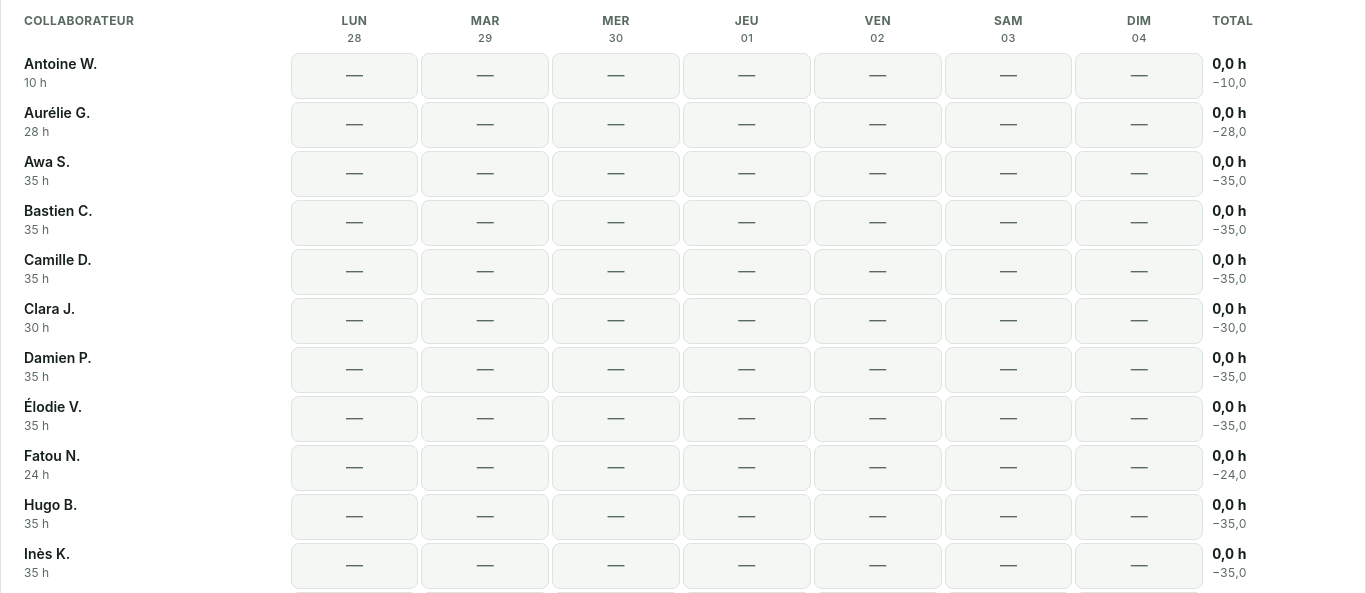
it: feuilles de route dans l’écran Planning › donne à chacun ses tâches, avec l’heure et le rayon
(page scrolled)
Click the button named "Camille D., lundi" at coordinates (354, 272), box [291,249,418,295]
(page scrolled)
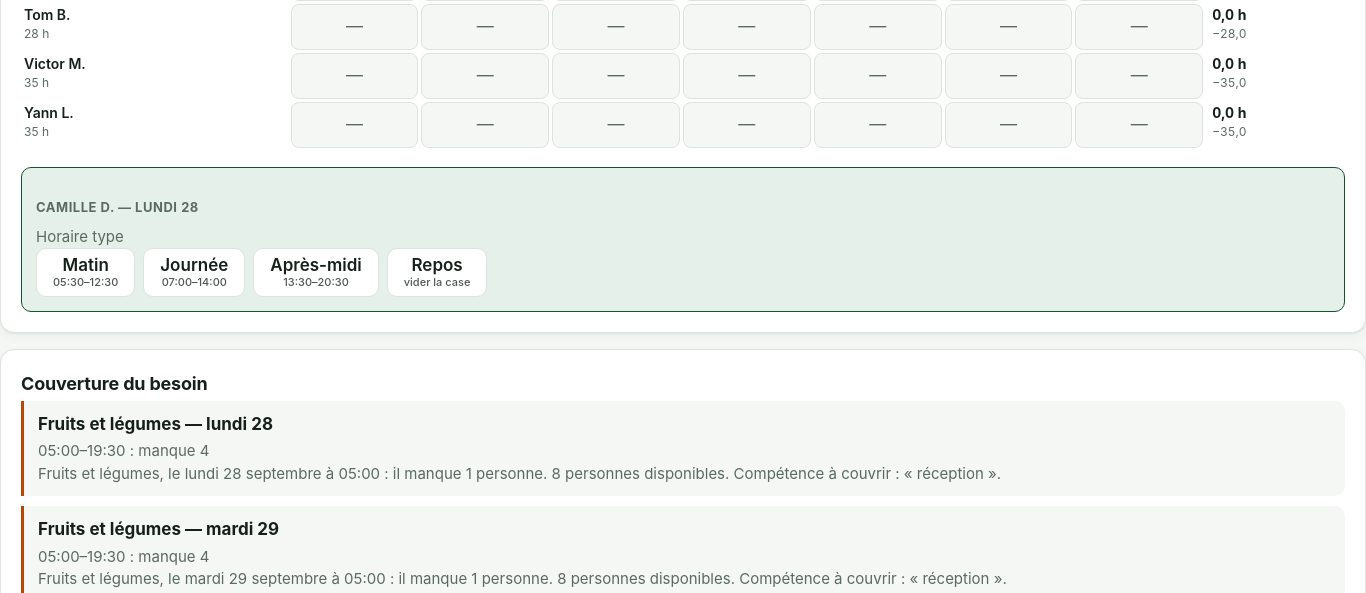
Click the button "Matin 05:30–12:30" at coordinates (86, 272), box [36,248,135,297]
(page scrolled)
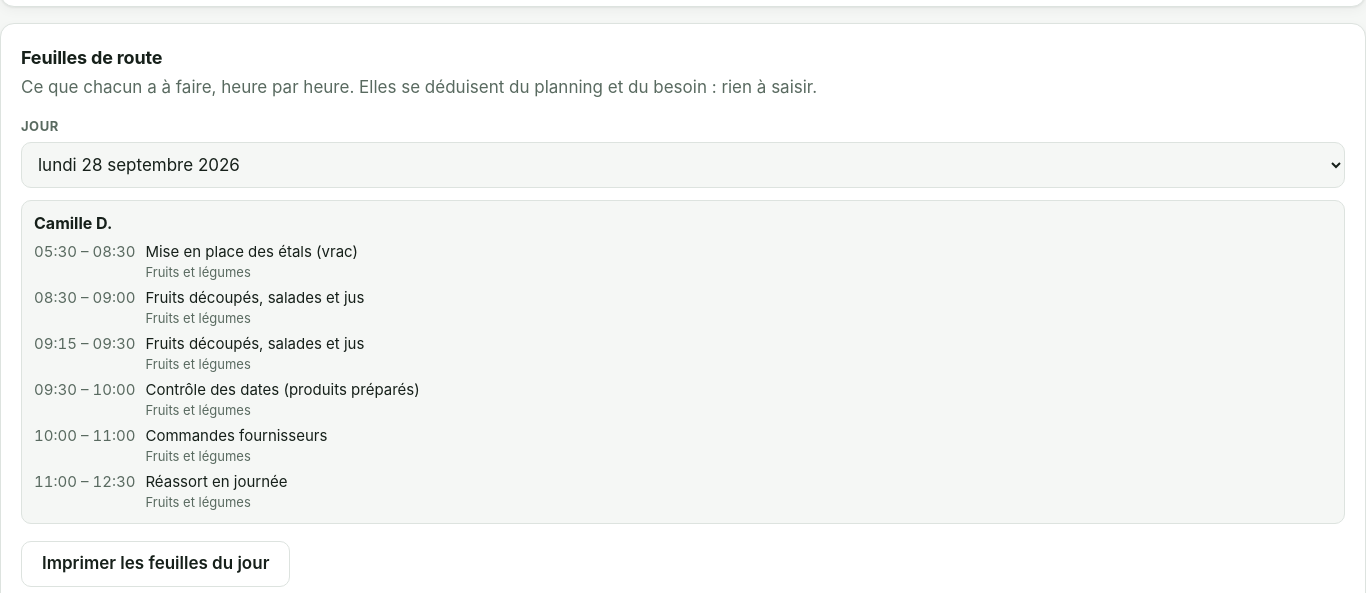
Expected: the heading "Camille D." is shown, [34,213,112,233]
Expected: the text "05:30 – 08:30" is shown, [34,241,135,263]
Expected: the text "Fruits et légumes" below "05:30 – 08:30" is shown, [145,264,251,280]
